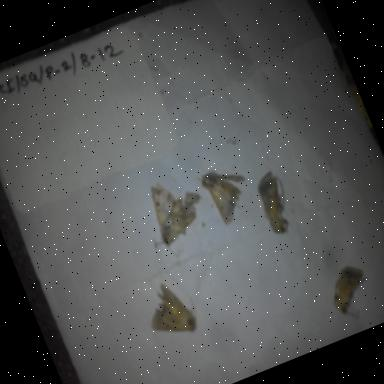abw: (129, 164, 219, 264), (132, 267, 206, 350), (191, 154, 263, 232), (314, 249, 384, 329), (246, 162, 304, 242)
